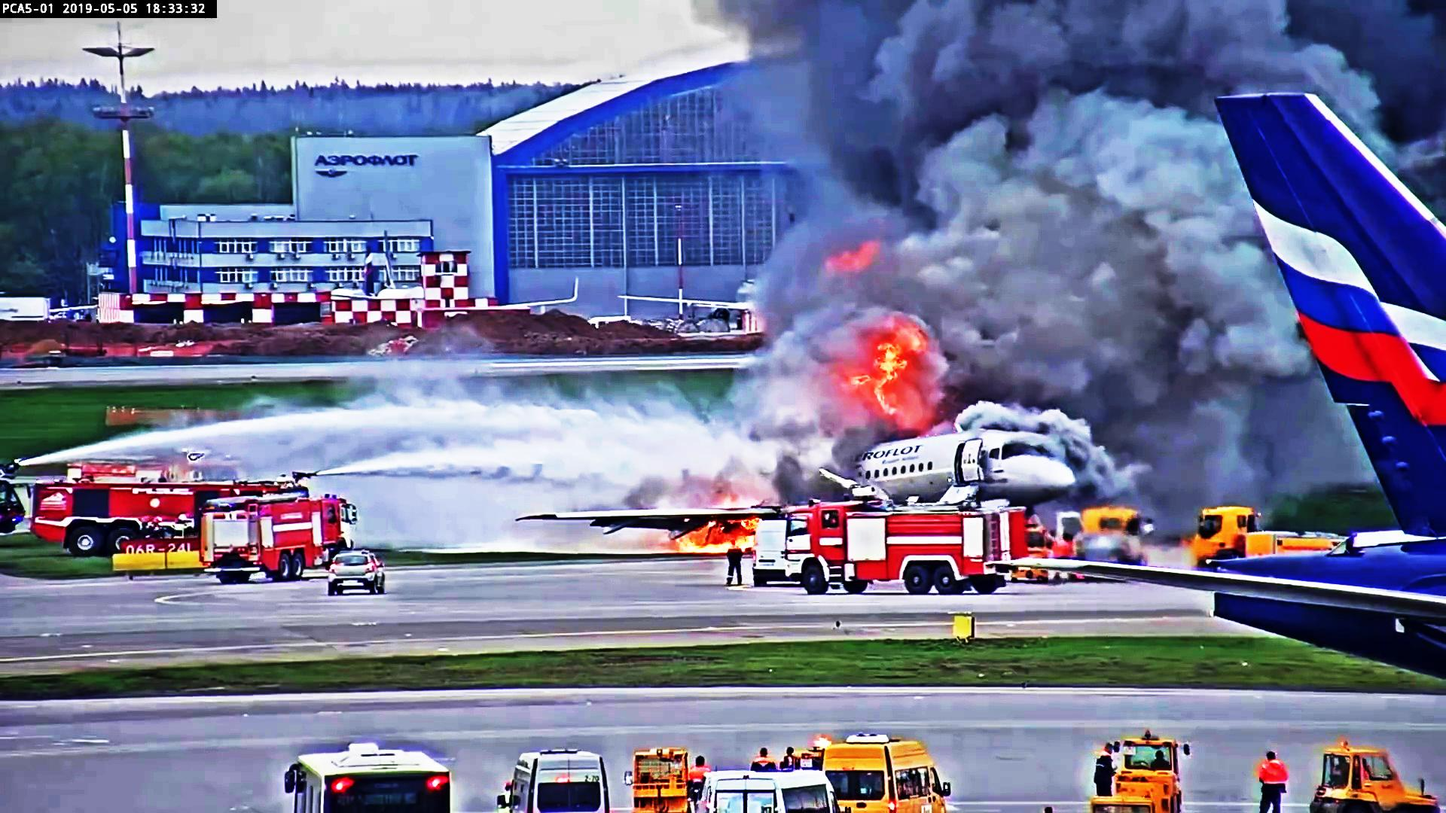smoke: (787, 10, 1206, 225), (875, 99, 1216, 342)
